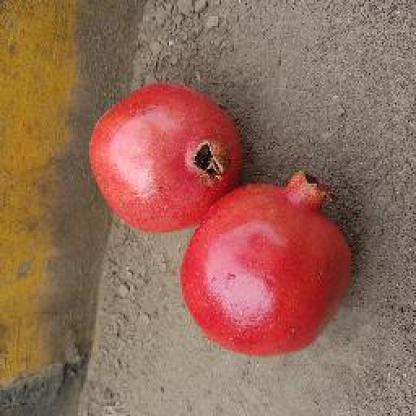pomegranate: (178, 172, 354, 354), (88, 83, 239, 232)
